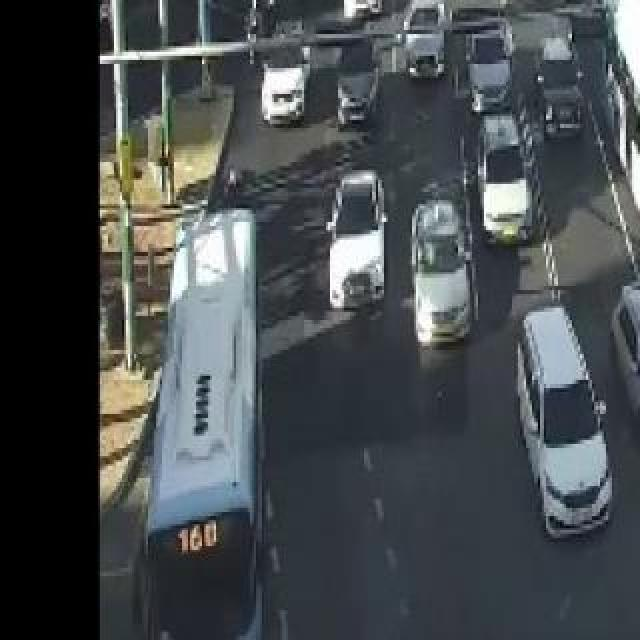car: (509, 311, 615, 534), (402, 200, 488, 360), (318, 158, 392, 305), (478, 113, 539, 242), (600, 282, 640, 466)
